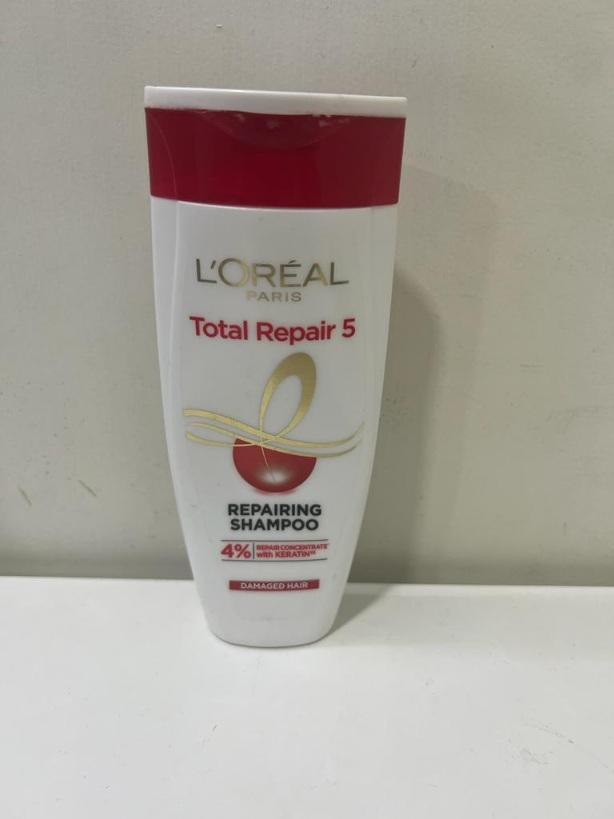Loreal: (146, 86, 405, 649)
